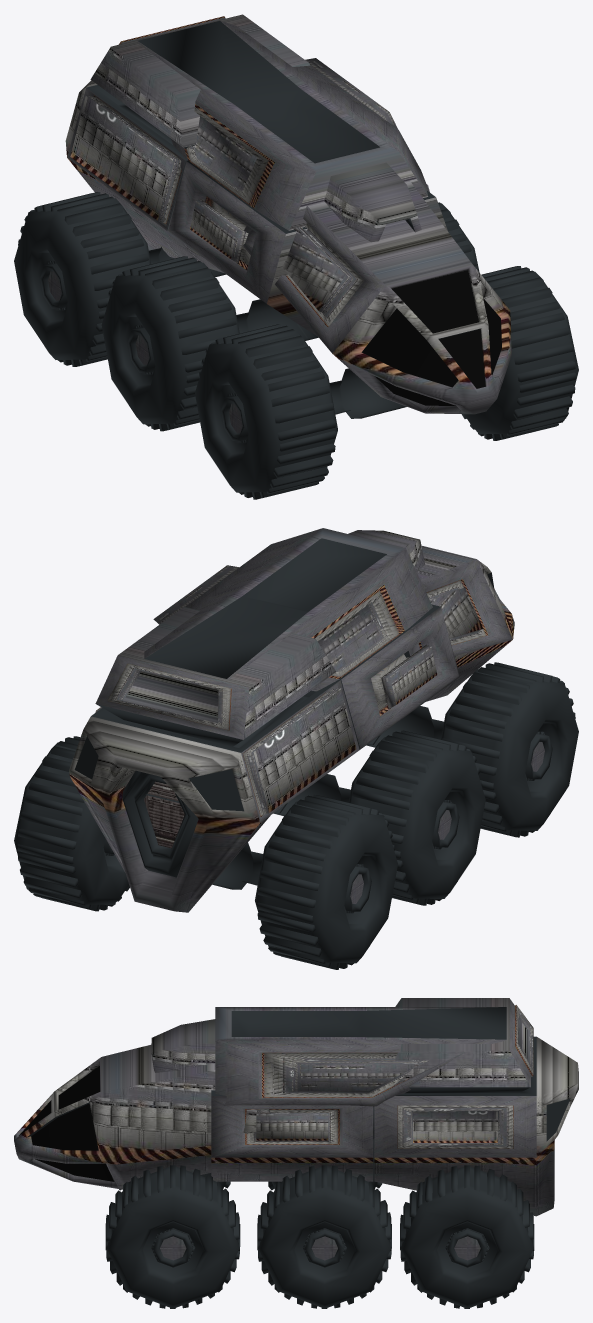
File: RoverRemaster.FBX
The picture shows the model from 3 angles, top to bottom: view 1: azimuth 30°, elevation 25°; view 2: azimuth 150°, elevation 25°; view 3: azimuth 270°, elevation 25°; orthographic projection. The views are drawn at different scales.
Visible parts, largest first — view 1: default, wheel002, wheel001, wheel, wheel004, wheel003; view 2: default, wheel, wheel002, wheel001, wheel005; view 3: default, wheel004, wheel003, wheel005.
Part boxes in pixels (x1,y1,x2,y2): default: (65, 14, 511, 418); wheel002: (195, 324, 337, 499); wheel001: (101, 256, 239, 431); wheel: (14, 192, 150, 366); wheel004: (461, 266, 578, 440); wheel003: (438, 202, 479, 272); default: (69, 528, 514, 912); wheel: (255, 794, 397, 969); wheel002: (441, 662, 578, 837); wheel001: (348, 730, 485, 905); wheel005: (14, 736, 129, 911); default: (14, 998, 578, 1216); wheel004: (105, 1165, 240, 1308); wheel003: (257, 1165, 391, 1308); wheel005: (400, 1165, 534, 1308).
Bounding box in the file's own units: 131 × 108 × 245.
